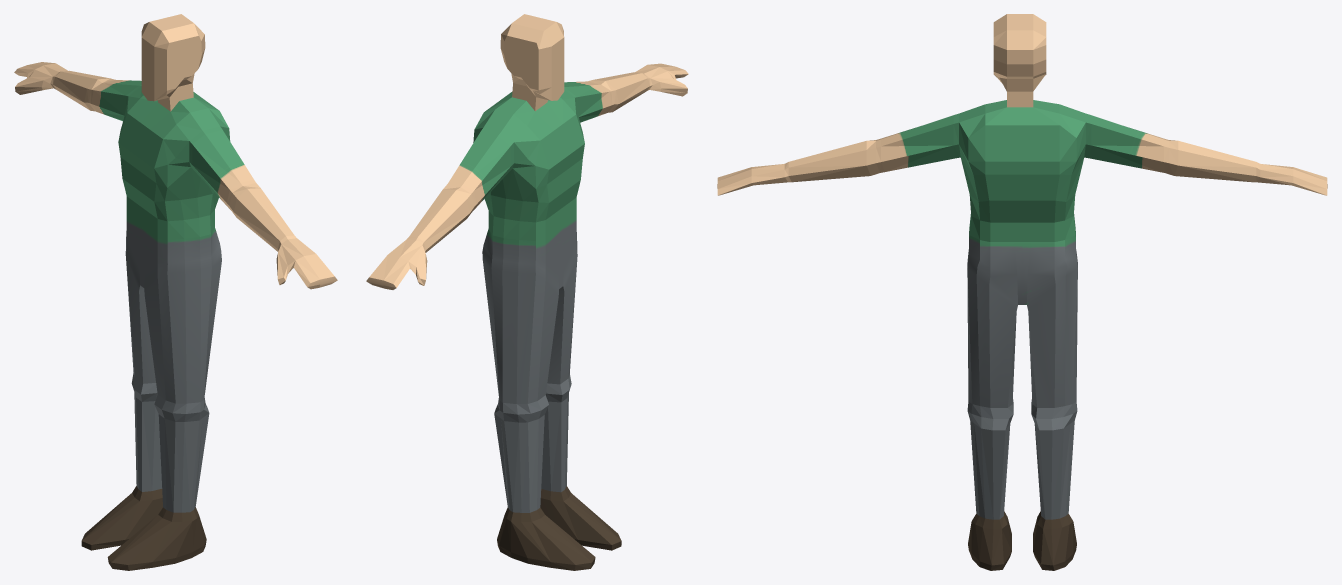
The model's file is adulto.FBX.
3 renders of one model, left to right at view 1: azimuth 30°, elevation 25°; view 2: azimuth 150°, elevation 25°; view 3: azimuth 270°, elevation 25°, orthographic. The views are drawn at different scales.
Visible parts, largest first — view 1: Box002; view 2: Box002; view 3: Box002.
Part boxes in pixels (x1,y1,x2,y2): Box002: [14, 14, 337, 570]; Box002: [366, 14, 688, 570]; Box002: [717, 14, 1327, 570].
Bounding box in the file's own units: 16.83 × 72.7 × 74.62.
